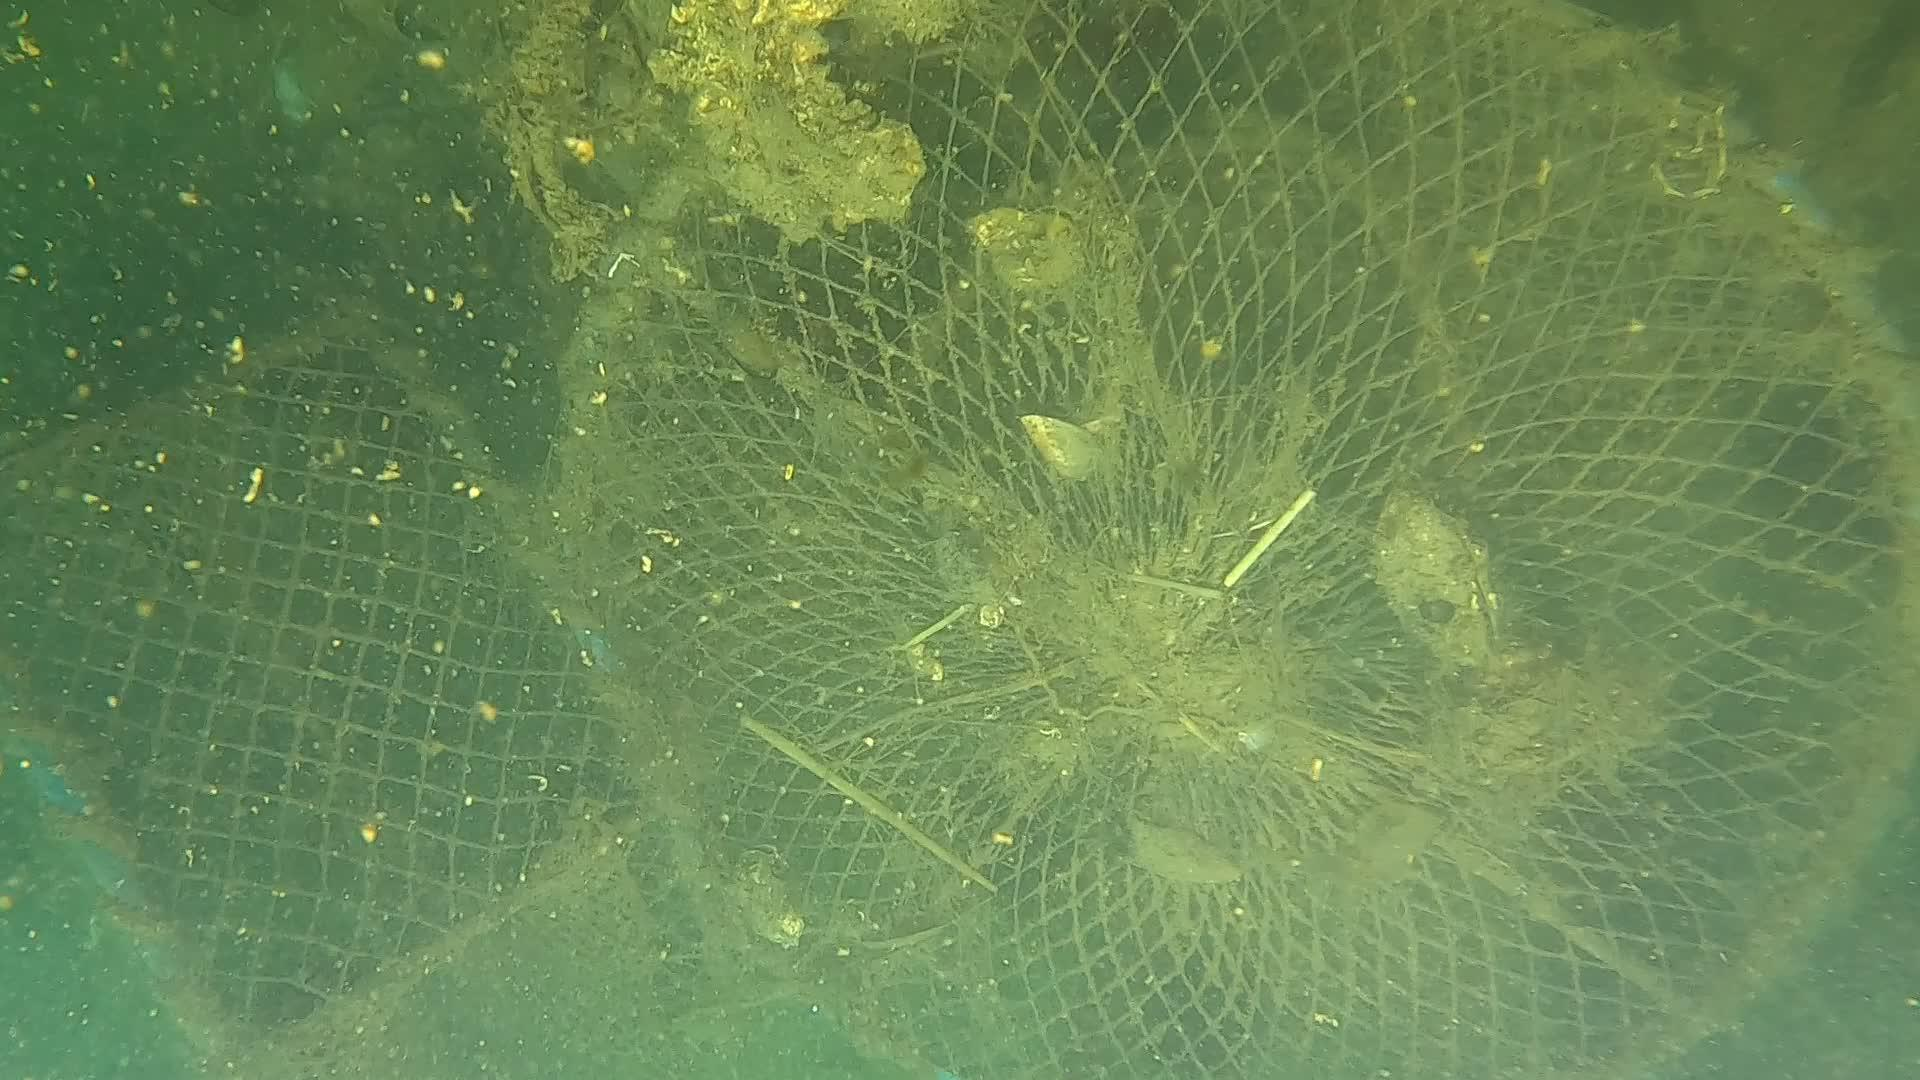circular fish trap: (542, 0, 1920, 1080), (0, 295, 756, 1080)
